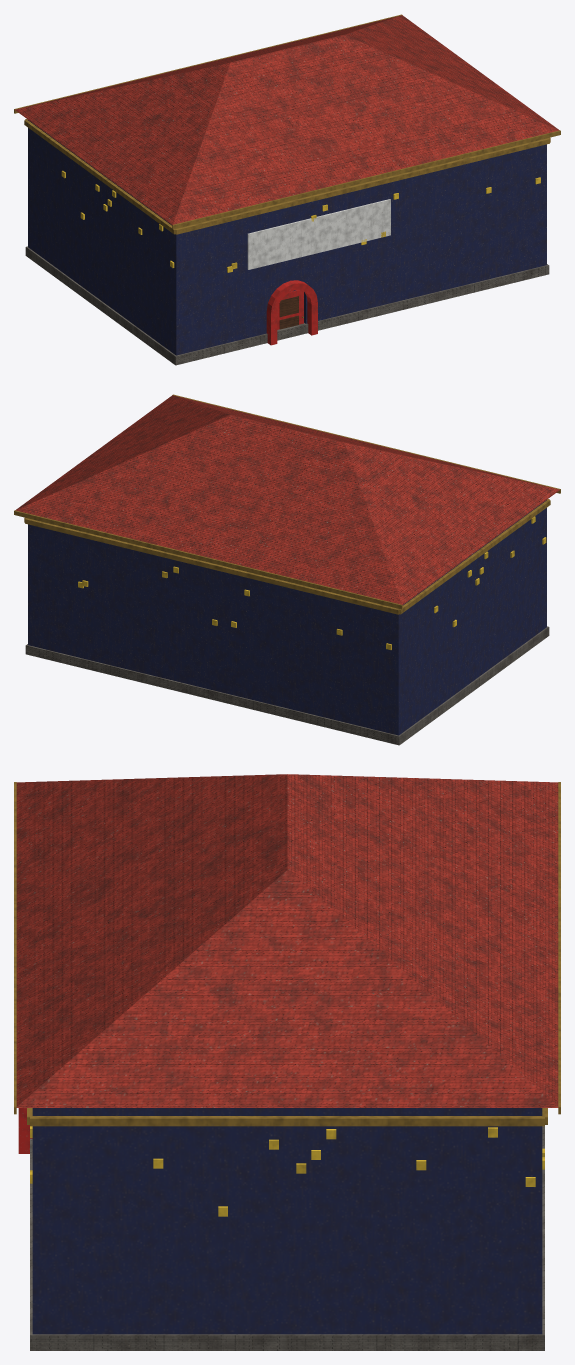
Rendered from Bld_CometExpress.fbx.
3 views of the same model, one above another, from view 1: azimuth 30°, elevation 25°; view 2: azimuth 150°, elevation 25°; view 3: azimuth 270°, elevation 25° (orthographic). The views are drawn at different scales.
Parts seen in each view (by area): view 1: Roof, Walls_Lobby, Facade_Decor, Door_CometExpress; view 2: Walls_Lobby, Roof, Facade_Decor; view 3: Roof, Walls_Lobby, Facade_Decor.
Part boxes in pixels (box(x1,y1,x2,y2)): Roof: box(14, 14, 560, 229); Walls_Lobby: box(28, 120, 546, 355); Facade_Decor: box(24, 119, 550, 365); Door_CometExpress: box(277, 290, 303, 329); Walls_Lobby: box(28, 500, 546, 735); Roof: box(14, 394, 560, 609); Facade_Decor: box(24, 499, 550, 745); Roof: box(14, 774, 560, 1114); Walls_Lobby: box(32, 1108, 542, 1334); Facade_Decor: box(18, 1108, 547, 1350).
Bounding box in the file's own units: 27.2 × 14.5 × 19.32.
